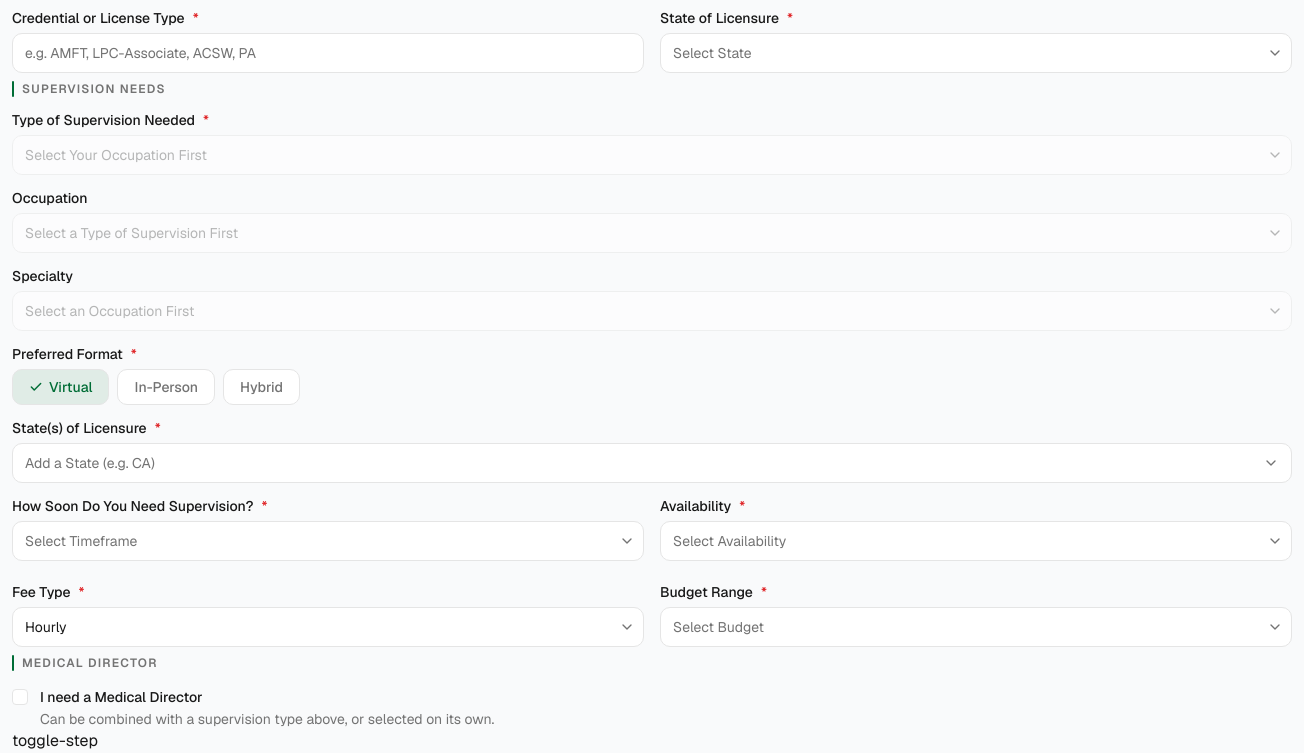
Test case: SuperviseeStepSupervisionNeeds — Medical Director section (regular flow) › reveals the MD required fields only when the checkbox is ticked
(page scrolled)
Check: the text "Monthly Budget for Medical Director" is not shown
Check: the text "How Soon Needed?" is not shown
Click the checkbox at {"x": 20, "y": 697}, box [12, 689, 28, 705]
(page scrolled)
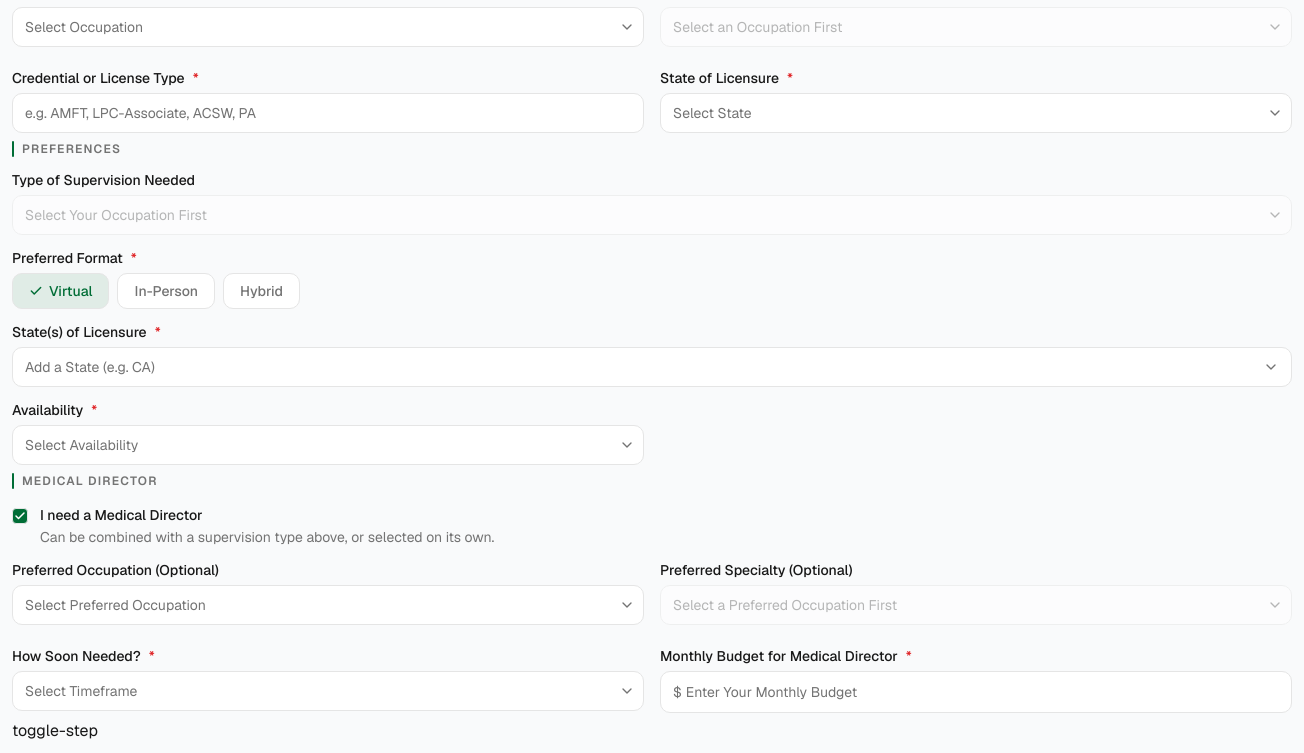
Check: the text "Monthly Budget for Medical Director" is shown, box [660, 647, 898, 665]
Check: the text "How Soon Needed?" is shown, box [12, 647, 141, 665]
Check: the text "Preferred Occupation (Optional)" is shown, box [12, 561, 219, 579]
